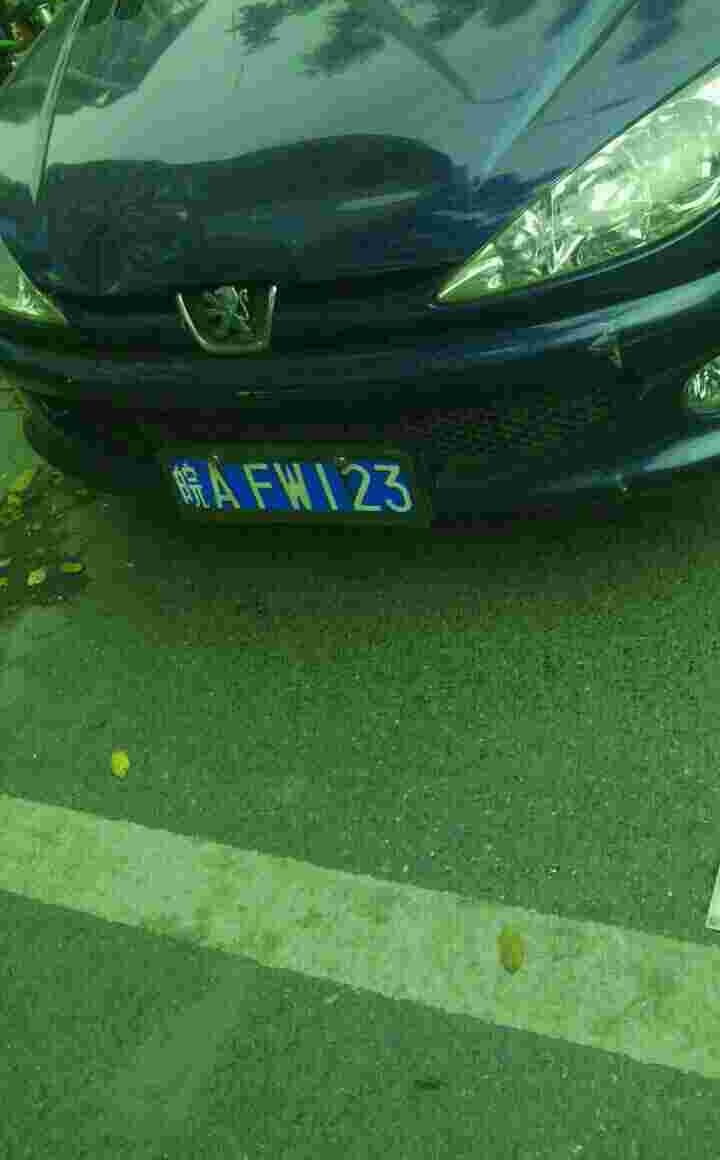license_plate: (182, 462, 423, 526)
